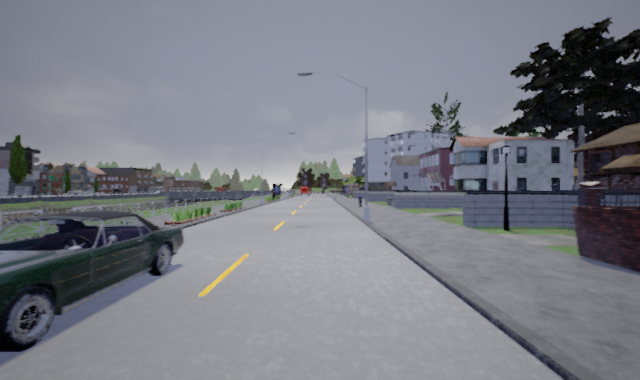vehicle: (1, 205, 182, 350)
